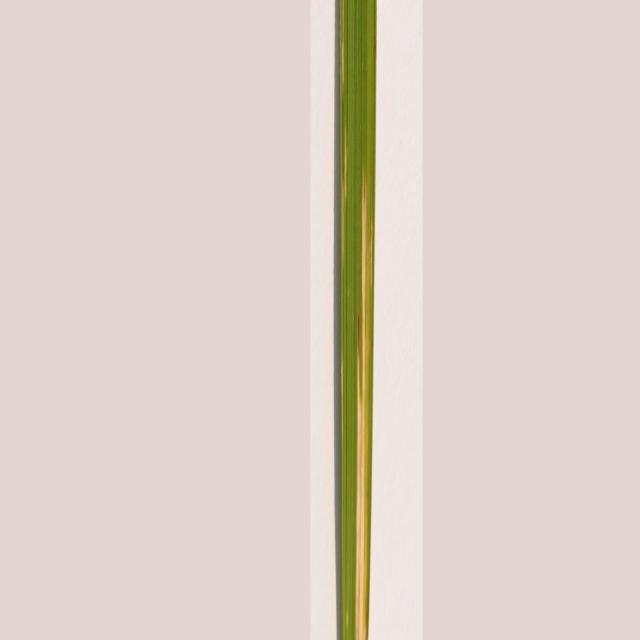Bacterial_Leaf_Blight: (313, 11, 406, 640)
